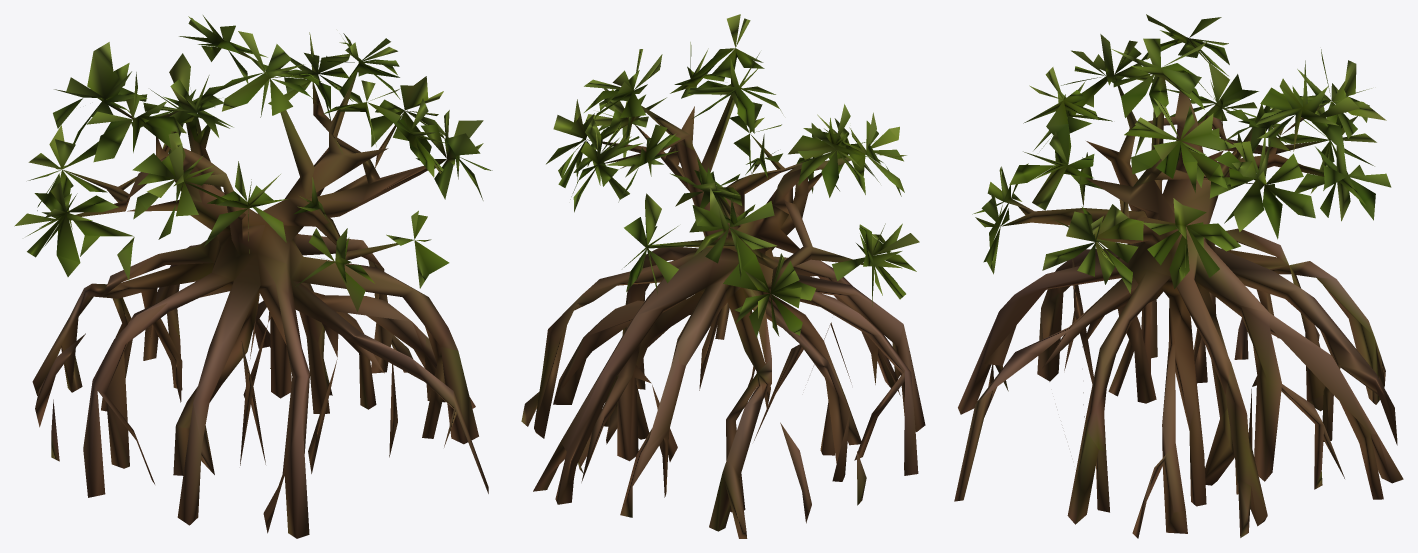
The model's file is env-mangrove3.lod.glb.
The picture shows the model from 3 angles, left to right: view 1: azimuth 30°, elevation 25°; view 2: azimuth 150°, elevation 25°; view 3: azimuth 270°, elevation 25°; orthographic projection. The views are drawn at different scales.
Parts seen in each view (by area): view 1: tripo_node_55ef3a46-626d-48b5-a440-41ffd737922c; view 2: tripo_node_55ef3a46-626d-48b5-a440-41ffd737922c; view 3: tripo_node_55ef3a46-626d-48b5-a440-41ffd737922c.
Boxes of the visible parts, box(x1,y1,x2,y2) form: tripo_node_55ef3a46-626d-48b5-a440-41ffd737922c: box(14, 15, 492, 538); tripo_node_55ef3a46-626d-48b5-a440-41ffd737922c: box(521, 14, 925, 538); tripo_node_55ef3a46-626d-48b5-a440-41ffd737922c: box(954, 14, 1403, 538).
Bounding box in the file's own units: 0.9777 × 0.9271 × 0.9367.
